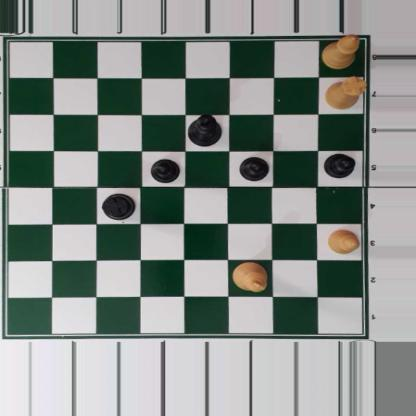black-king: (185, 114, 223, 146)
black-pawn: (322, 151, 355, 178), (149, 158, 181, 183), (239, 155, 269, 181)
black-rook: (101, 193, 136, 221)
white-bishop: (320, 32, 360, 68)
white-king: (231, 261, 268, 293)
white-pawn: (325, 227, 359, 254)
white-rook: (325, 76, 365, 109)
